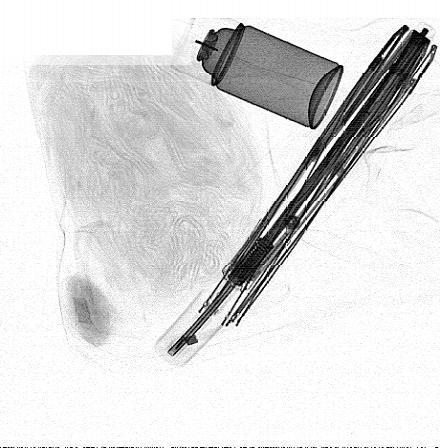Sprayer: (171, 7, 346, 129)
